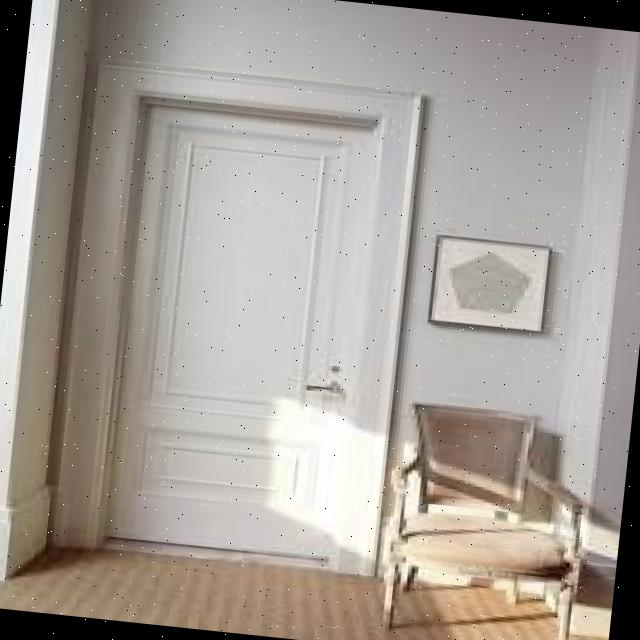Door: (75, 85, 392, 584)
